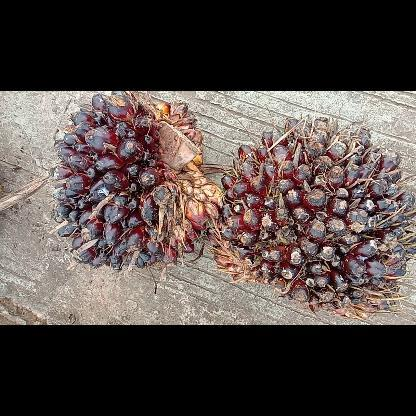TBS mentah: (206, 110, 416, 317), (50, 90, 228, 272)
